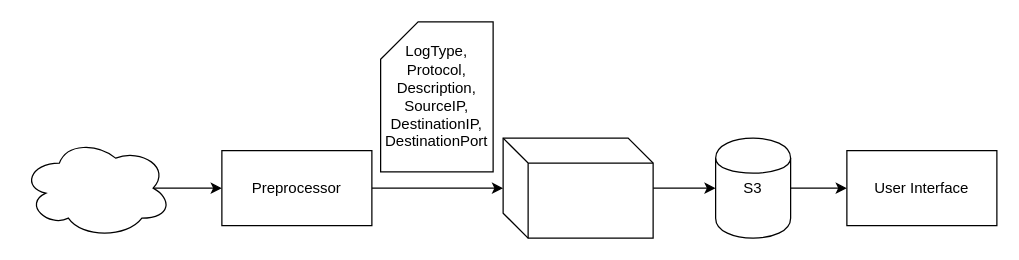
The diagram is 1019 pixels wide and 260 high, and some of its shapes have lost their labels. Here are the shapes that lost their labels. From the top down, the centre of each, then its label:
At pixel 96 187: "Server Logs".
At pixel 577 187: "Classifier".
